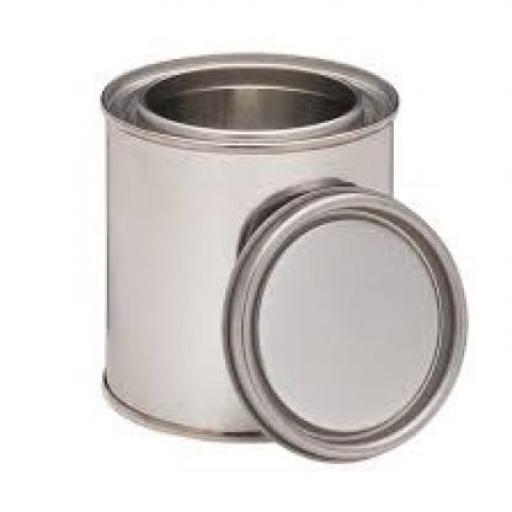metal: (102, 50, 400, 440), (228, 184, 471, 460)
